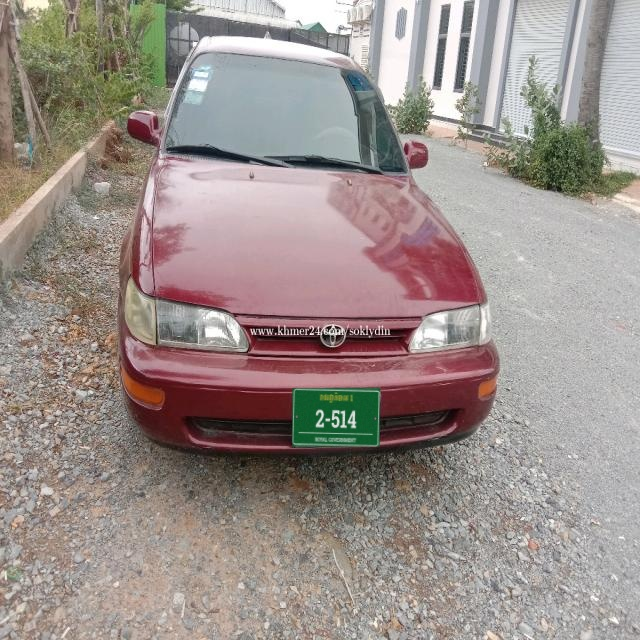Plate Number: (293, 388, 380, 448)
